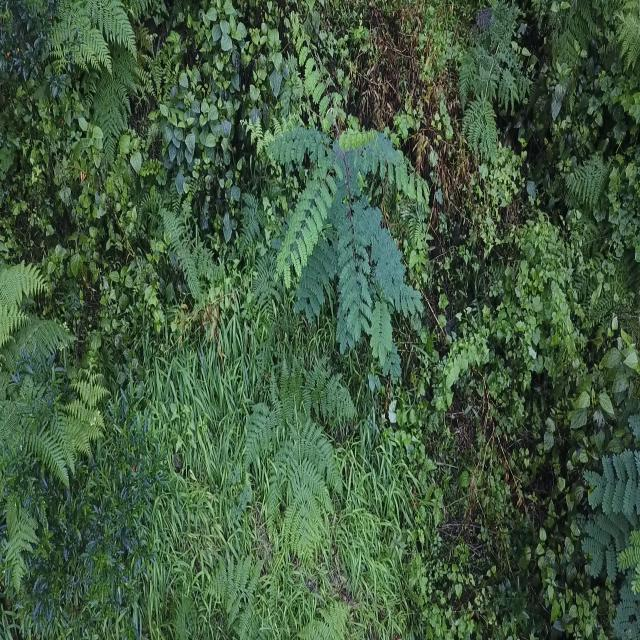Mysore-Thorn-Weed: (249, 19, 433, 396), (583, 407, 640, 638)
